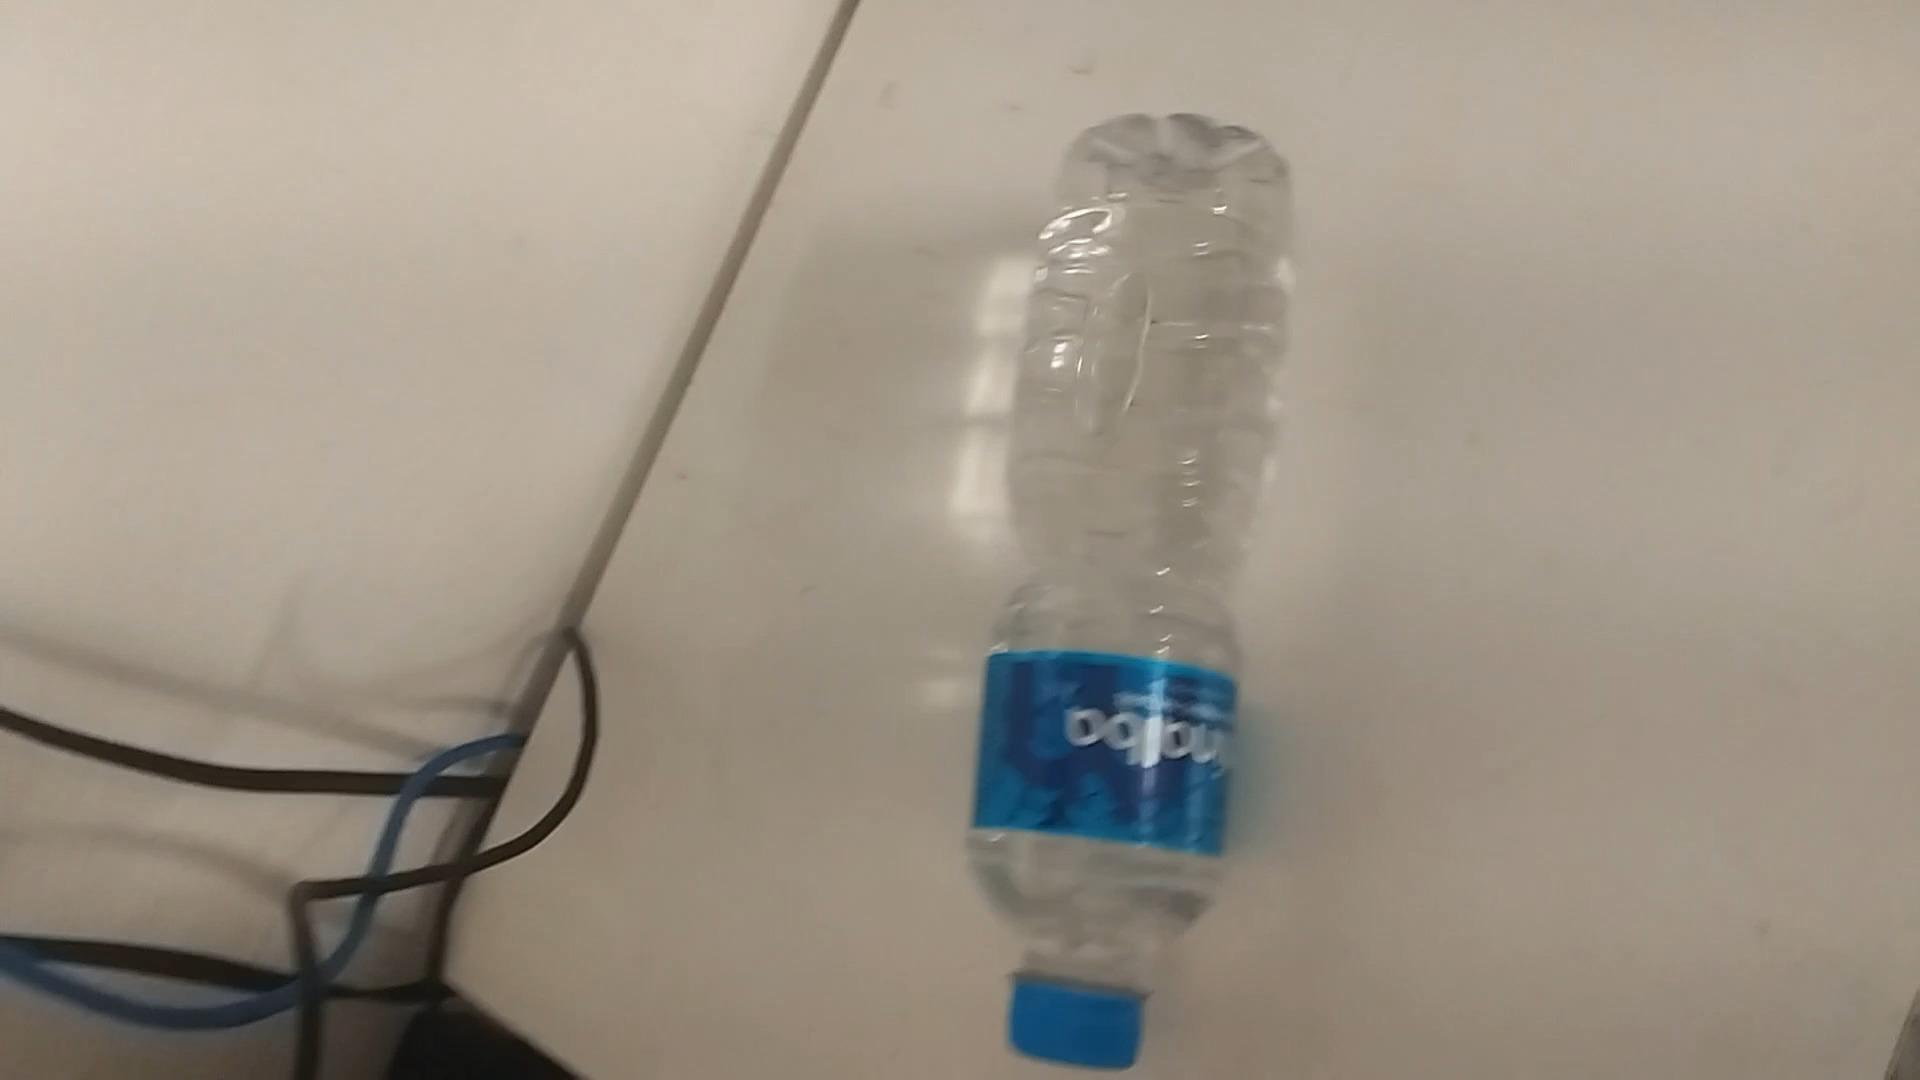agua: (969, 117, 1280, 1075)
